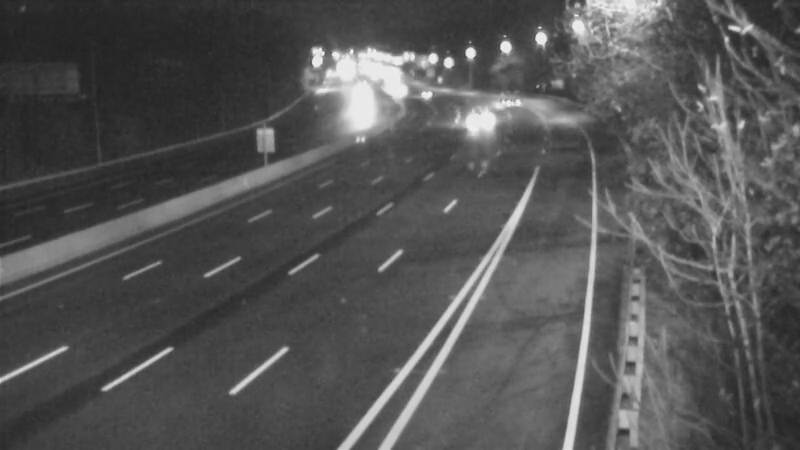vehicle: (401, 70, 451, 120), (484, 79, 534, 129), (451, 93, 501, 143), (340, 68, 390, 118)
